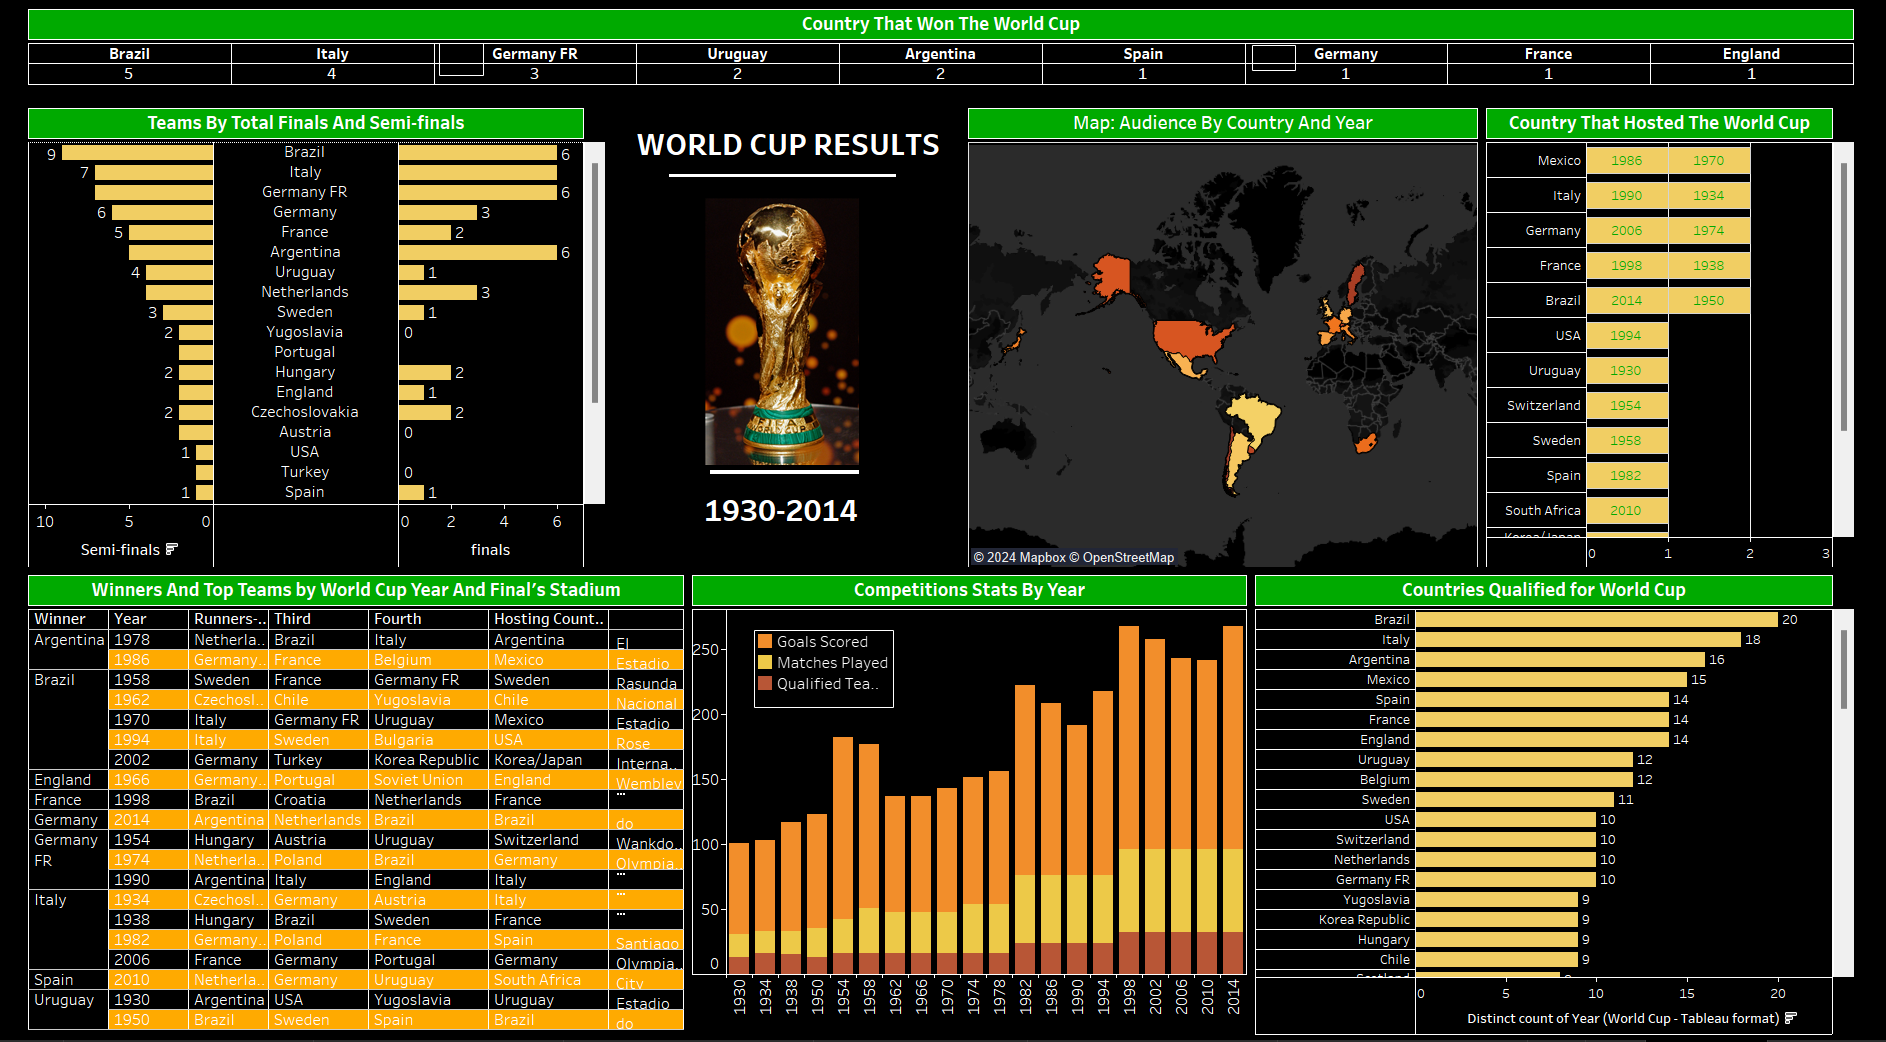

The dashboard page shown, as its layout file describes it:
{"tool":"tableau","page":{"name":"Dashboard 1","canvas":[1850,1050],"ordinal":0},"visuals":[{"type":"worksheet","title":"Country That Won The World Cup","mark":"Automatic","cols":["Winner"],"box":[8,8,1834,99]},{"type":"image","param":"C:/Users/mewar/Desktop/Germany flag.png","box":[423,46,45,33]},{"type":"image","param":"C:/Users/mewar/Desktop/England flag.png","box":[1640,47,47,30]},{"type":"image","param":"C:/Users/mewar/Desktop/uruguay flag.png","box":[629,48,41,28]},{"type":"image","param":"C:/Users/mewar/Desktop/Germany flag.png","box":[1236,48,44,26]},{"type":"image","param":"C:/Users/mewar/Desktop/Brazil flag.png","box":[18,49,48,26]},{"type":"image","param":"C:/Users/mewar/Desktop/Spain flag.jpg","box":[1032,49,42,29]},{"type":"image","param":"C:/Users/mewar/Desktop/France Flag.jpg","box":[1437,49,48,29]},{"type":"image","param":"C:/Users/mewar/Desktop/OIP.jfif","box":[830,50,43,27]},{"type":"image","param":"C:/Users/mewar/Desktop/Italy flag.png","box":[219,51,43,27]},{"type":"worksheet","title":"Teams By Total Finals And Semi-finals","mark":"Automatic","rows":["Team"],"cols":["Calculation_1030479916109164549","Calculation_1030479916107776004","Calculation_1030479916106235906"],"box":[8,107,587.2,467.5]},{"type":"image","param":"C:/Users/mewar/Desktop/World Cup logo.png","box":[595.2,107,352.8,467.5]},{"type":"worksheet","title":"Map: Audience By Country And Year","mark":"Multipolygon","box":[948,107,518.2,467.5]},{"type":"worksheet","title":"Country That Hosted The World Cup","mark":"Automatic","rows":["Country"],"cols":["Country"],"box":[1466.2,107,375.8,467.5]},{"type":"worksheet","title":"Title 1","mark":"Automatic","box":[606,126,338,47]},{"type":"blank","box":[535,136,436,237]},{"type":"blank","box":[653,177,227,3]},{"type":"image","param":"C:/Users/mewar/Desktop/dashborad background/R.png","box":[592,201,348,267]},{"type":"blank","box":[694,473,149,4]},{"type":"worksheet","title":"Title 2","mark":"Automatic","box":[684,487,195,57]},{"type":"worksheet","title":"Winners And Top Teams by World Cup Year And Final's Stadium","mark":"Automatic","rows":["Winner","Year","Runners-Up","Third","Fourth","Country"],"box":[8,574.5,663.9,467.5]},{"type":"worksheet","title":"Competitions Stats By Year","mark":"Bar","cols":["Year"],"box":[671.9,574.5,563.1,467.5]},{"type":"worksheet","title":"Countries Qualified for World Cup","mark":"Automatic","rows":["Team"],"cols":["Year (World Cup - Tableau format)"],"box":[1235,574.5,607,467.5]},{"type":"legend","title":"Competitions Stats By Year","param":"[federated.18pgzum0oyvlfx18i9xzj1pk6w2c].[:Measure Names]","box":[738,633,140,78]}]}

Visuals, with their boxes in screenshot pixels (x1, y1, x2, y2), scaled from the page's 1850x1050 canvas onto the 1886x1042 screenshot:
"Country That Won The World Cup" worksheet: x1=8 y1=8 x2=1878 y2=106
image: x1=431 y1=46 x2=477 y2=78
image: x1=1672 y1=47 x2=1720 y2=76
image: x1=641 y1=48 x2=683 y2=75
image: x1=1260 y1=48 x2=1305 y2=73
image: x1=18 y1=49 x2=67 y2=74
image: x1=1052 y1=49 x2=1095 y2=77
image: x1=1465 y1=49 x2=1514 y2=77
image: x1=846 y1=50 x2=890 y2=76
image: x1=223 y1=51 x2=267 y2=77
"Teams By Total Finals And Semi-finals" worksheet: x1=8 y1=106 x2=607 y2=570
image: x1=607 y1=106 x2=966 y2=570
"Map: Audience By Country And Year" worksheet (Multipolygon marks): x1=966 y1=106 x2=1495 y2=570
"Country That Hosted The World Cup" worksheet: x1=1495 y1=106 x2=1878 y2=570
"Title 1" worksheet: x1=618 y1=125 x2=962 y2=172
blank: x1=545 y1=135 x2=990 y2=370
blank: x1=666 y1=176 x2=897 y2=179
image: x1=604 y1=199 x2=958 y2=464
blank: x1=708 y1=469 x2=859 y2=473
"Title 2" worksheet: x1=697 y1=483 x2=896 y2=540
"Winners And Top Teams by World Cup Year And Final's Stadium" worksheet: x1=8 y1=570 x2=685 y2=1034
"Competitions Stats By Year" worksheet (Bar marks): x1=685 y1=570 x2=1259 y2=1034
"Countries Qualified for World Cup" worksheet: x1=1259 y1=570 x2=1878 y2=1034
"Competitions Stats By Year" legend: x1=752 y1=628 x2=895 y2=706
